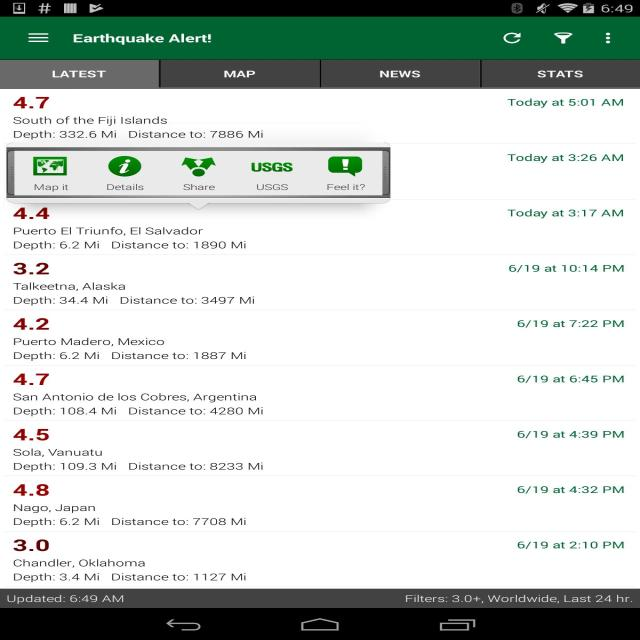button: (3, 59, 161, 91), (163, 59, 318, 90), (321, 61, 480, 89), (482, 60, 638, 86), (12, 151, 91, 194), (239, 153, 315, 195), (315, 151, 383, 195), (164, 153, 235, 194), (94, 153, 162, 195), (542, 31, 576, 50), (497, 28, 526, 50), (597, 30, 625, 50), (26, 29, 50, 46)
heading: (71, 32, 215, 48), (8, 93, 54, 114), (8, 204, 54, 222), (9, 260, 57, 277), (10, 370, 55, 388), (10, 426, 56, 443), (11, 316, 57, 332), (13, 482, 52, 499), (12, 537, 50, 554)
text: (12, 391, 269, 419), (10, 225, 250, 254), (11, 280, 258, 308), (11, 115, 266, 142), (11, 558, 256, 585), (12, 447, 266, 472), (10, 336, 250, 362), (11, 503, 250, 529), (399, 593, 635, 607), (4, 591, 131, 609), (503, 260, 628, 277), (505, 96, 628, 110), (514, 316, 627, 331), (502, 151, 629, 164), (515, 372, 626, 386), (502, 207, 634, 218), (514, 540, 628, 552), (514, 428, 626, 440), (515, 484, 626, 495)
